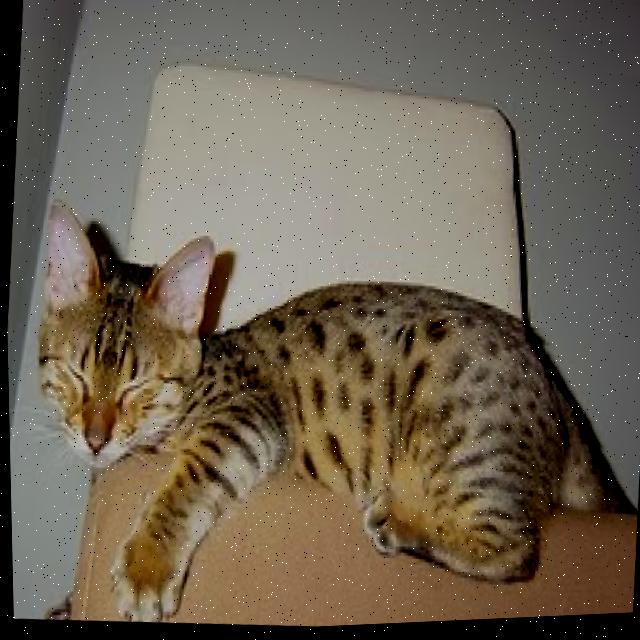Bengal: (3, 148, 640, 640)
